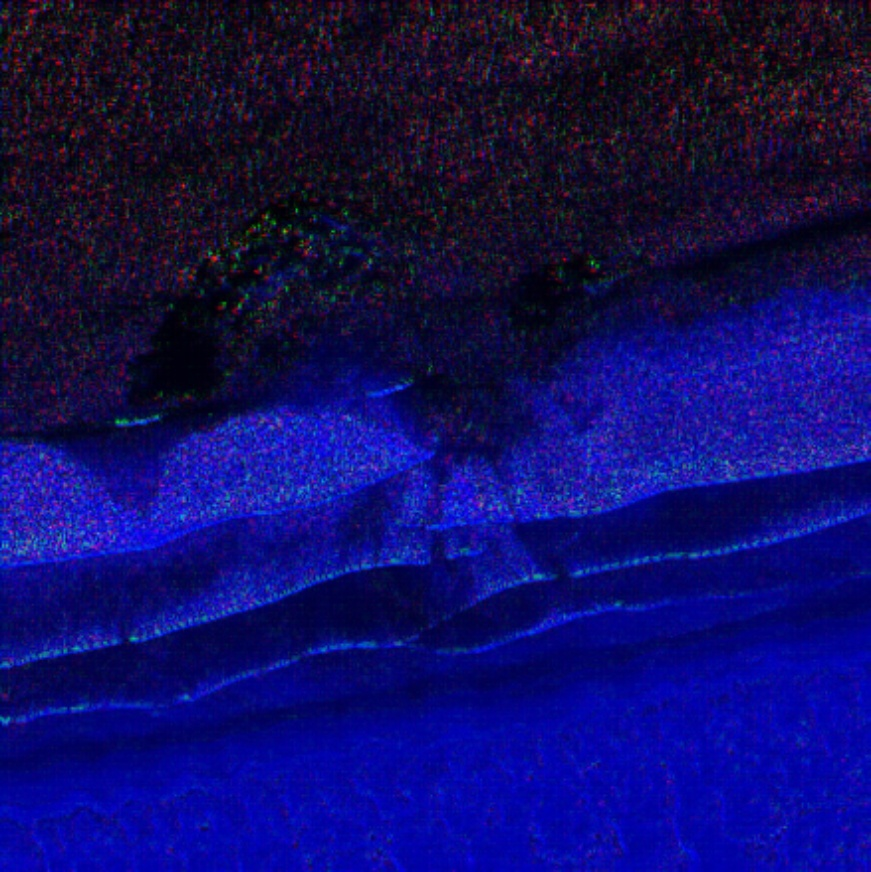rip_current: (319, 227, 554, 571)
